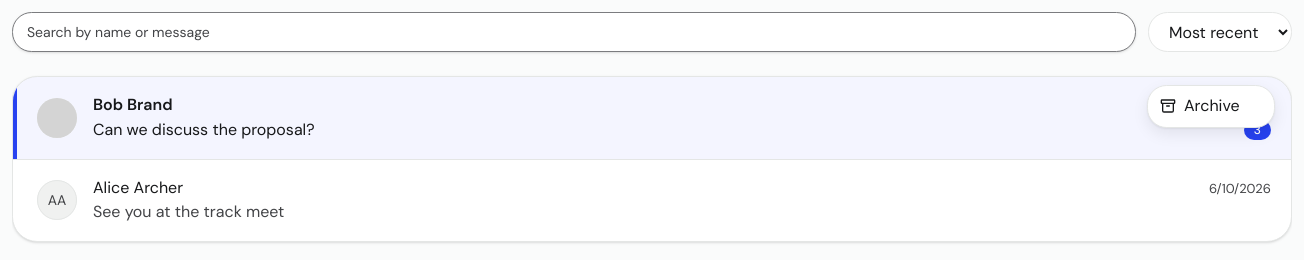
it: MatchList › archives via right-click (desktop) and removes the conversation from the inbox
Click the menu item "Archive": (1211, 106) [1148,86,1274,127]
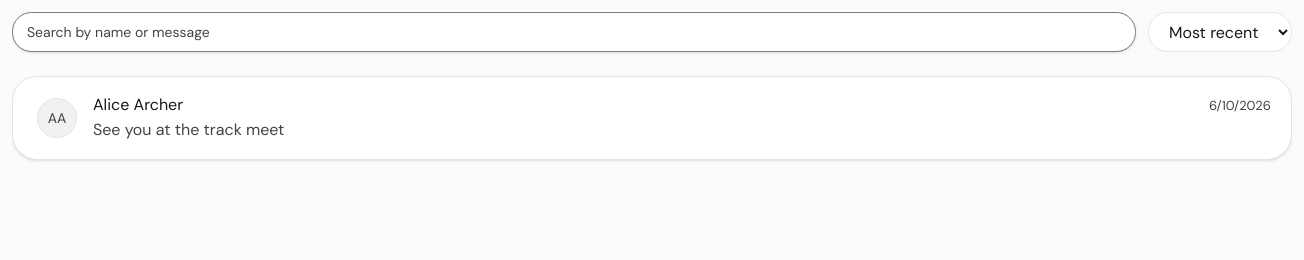
Expected: the link "Bob Brand" is gone
